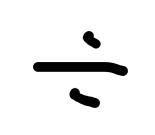div: (33, 31, 128, 108)
